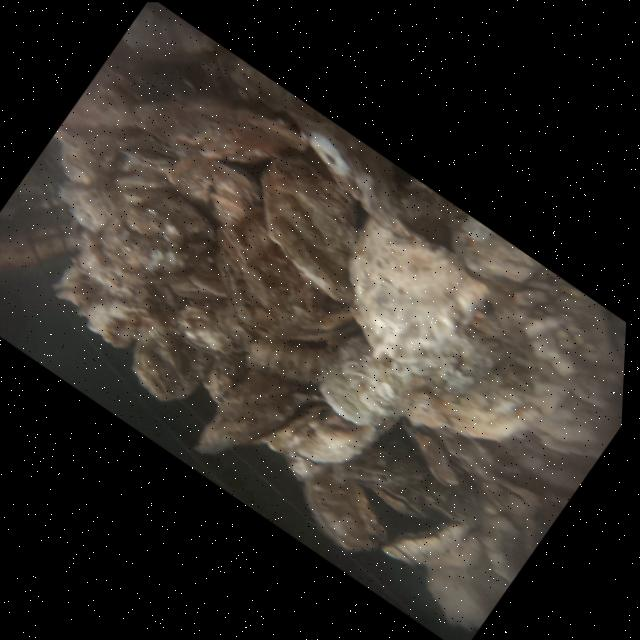Oyster-Closed: (172, 190, 385, 378), (304, 203, 500, 386), (217, 138, 409, 310), (121, 47, 315, 214), (269, 445, 405, 565), (256, 374, 386, 493), (376, 489, 495, 601), (342, 421, 461, 529), (235, 310, 340, 405), (164, 284, 269, 376), (381, 412, 476, 491)
Oyster-Indeterminate: (188, 346, 327, 493), (153, 135, 270, 238), (115, 312, 223, 415), (321, 327, 433, 425), (294, 341, 401, 434), (191, 346, 255, 412)
